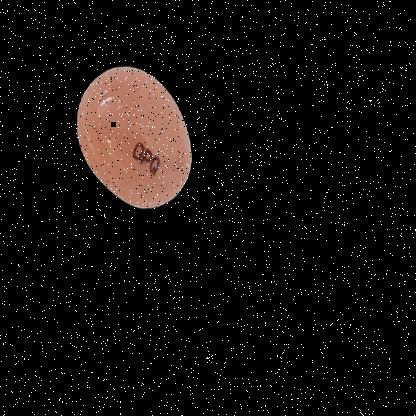opiqutan: (37, 7, 233, 288)
